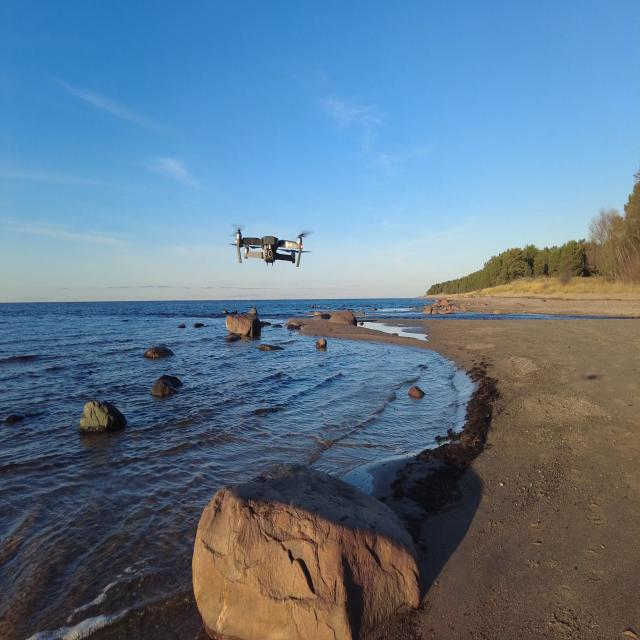Drone: (237, 231, 312, 266)
